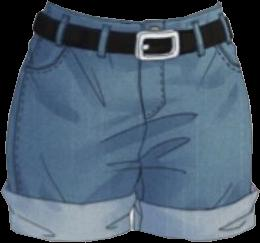Hemline: (134, 224, 256, 242), (9, 228, 131, 242)
Pantleg: (1, 1, 146, 241), (133, 1, 259, 241)
Waistline: (32, 32, 233, 57), (46, 2, 220, 25)
